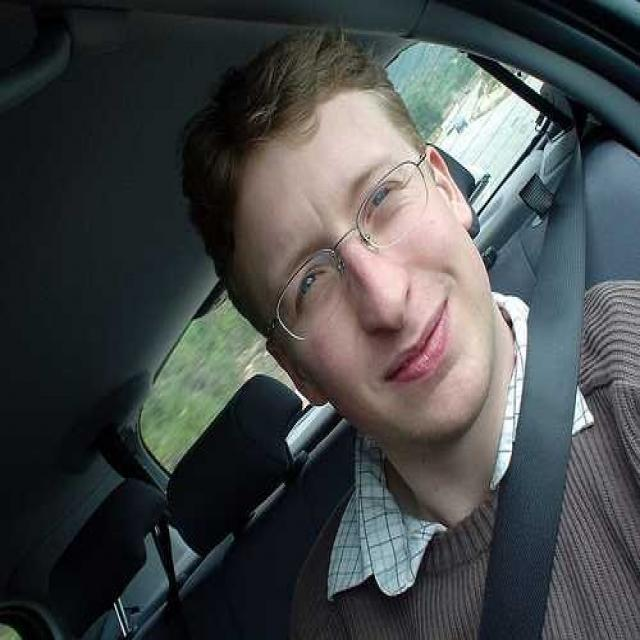seatbelt: (467, 114, 597, 634)
